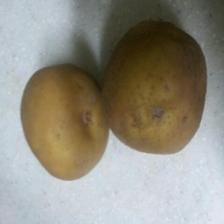Potato: (99, 18, 211, 157), (20, 62, 114, 183)
